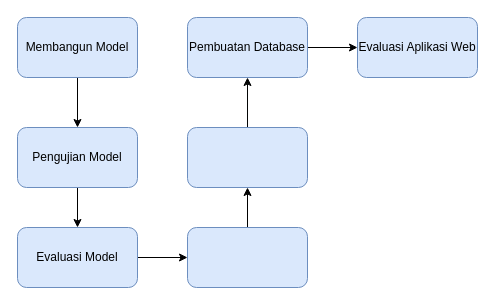
Some shapes in this 495 by 305 pixel diagram are drawn without their labels. Here are the shapes that lost their labels. From the top down, the centre of each, then its label:
At pixel 247 157: "Pembuatan Backend Server".
At pixel 247 257: "Pembuatan Frontend dan UI".
